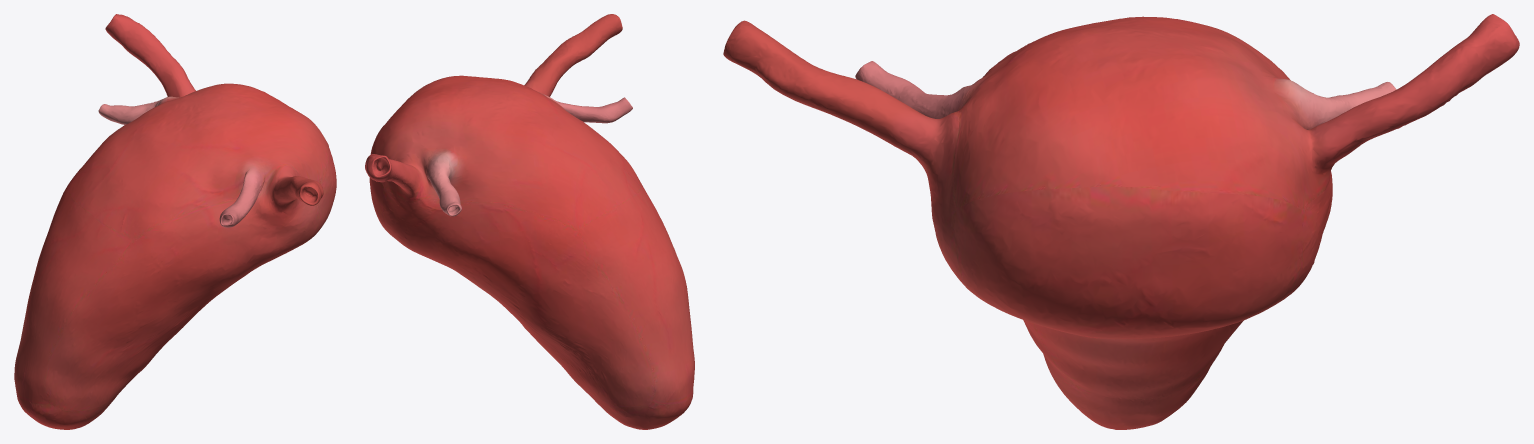
The model's file is womb.glb.
The picture shows the model from 3 angles, left to right: view 1: azimuth 30°, elevation 25°; view 2: azimuth 150°, elevation 25°; view 3: azimuth 270°, elevation 25°; orthographic projection. The views are drawn at different scales.
Visible parts, largest first — view 1: Livmoder_Default Material_0; view 2: Livmoder_Default Material_0; view 3: Livmoder_Default Material_0.
Boxes of the visible parts, bbox=[...] form: Livmoder_Default Material_0: bbox=[14, 14, 336, 429]; Livmoder_Default Material_0: bbox=[365, 14, 694, 429]; Livmoder_Default Material_0: bbox=[723, 14, 1519, 429].
Bounding box in the file's own units: 0.4533 × 0.4472 × 0.6.
1 material, 1 textured.
